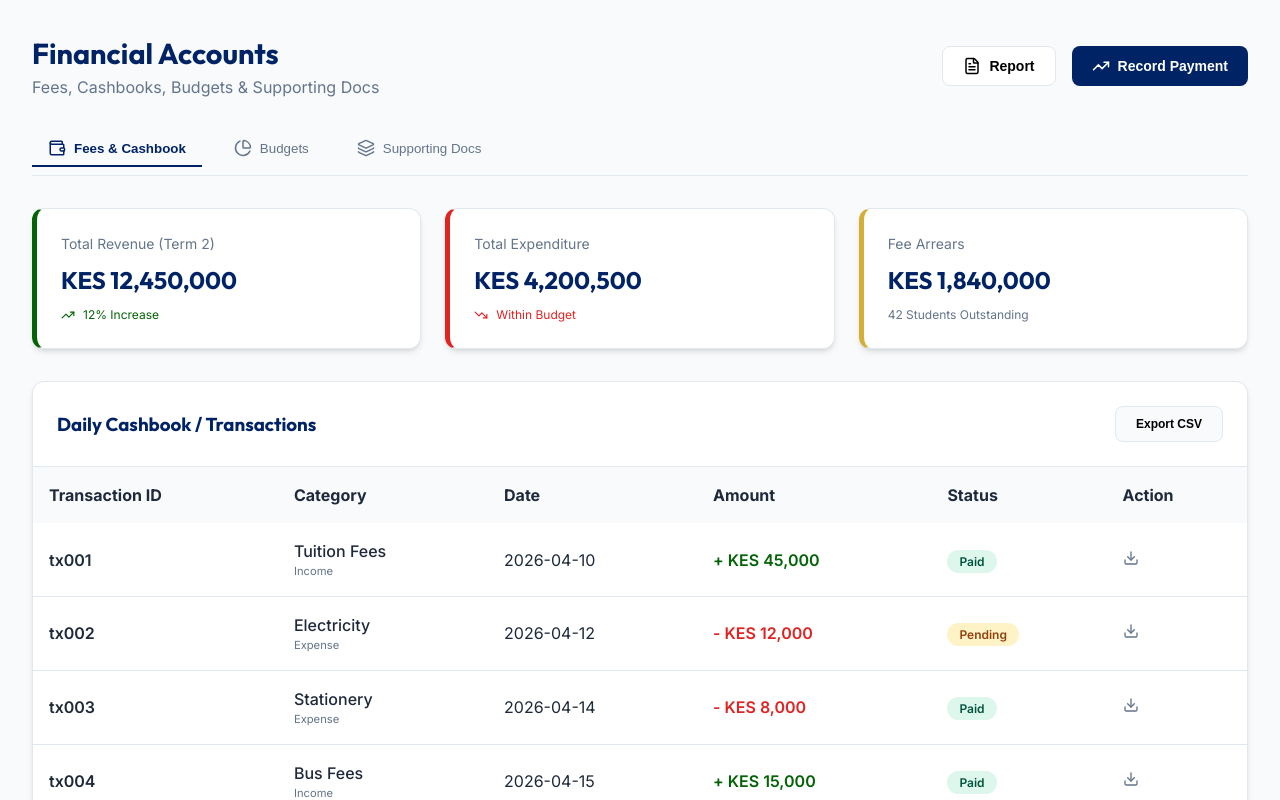
FinanceModule Component › switches between sub-tabs
Click the button "Budgets". click: point(271, 149)
box: [218, 131, 325, 167]
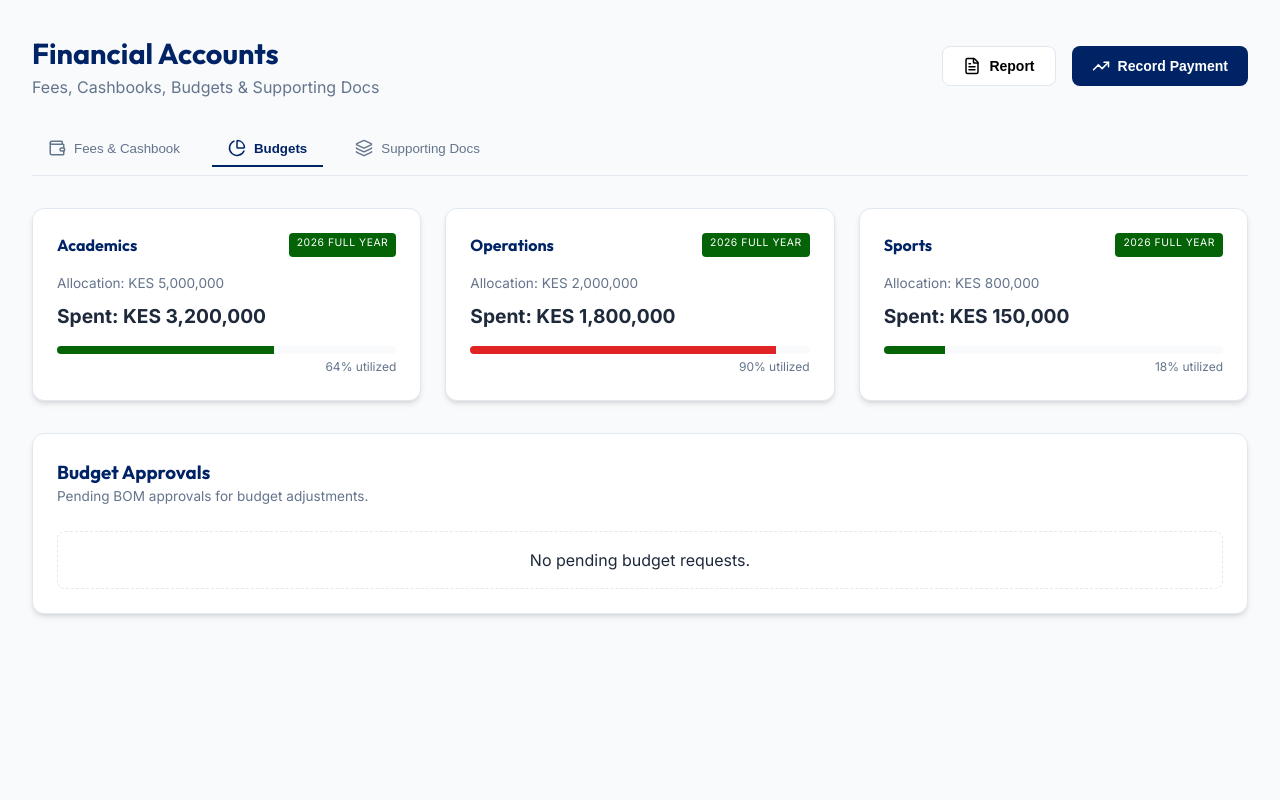
Now the heading "Budget Approvals" is shown, box [57, 460, 210, 484]
Click the button "Supporting Docs". click: point(418, 149)
box: [339, 131, 496, 167]
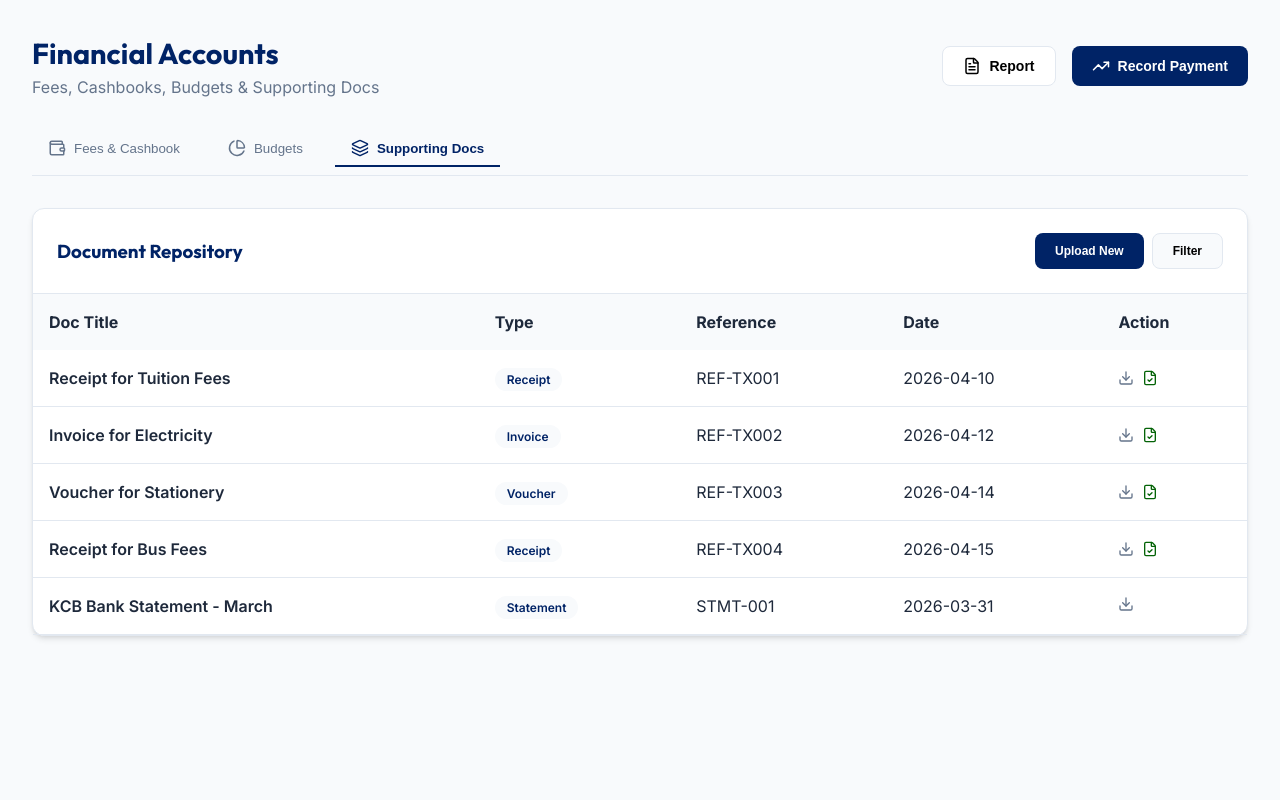
Now the heading "Document Repository" is shown, box [57, 237, 243, 265]
Click the button "Fees & Cashbook". click: point(114, 149)
box: [32, 131, 196, 167]
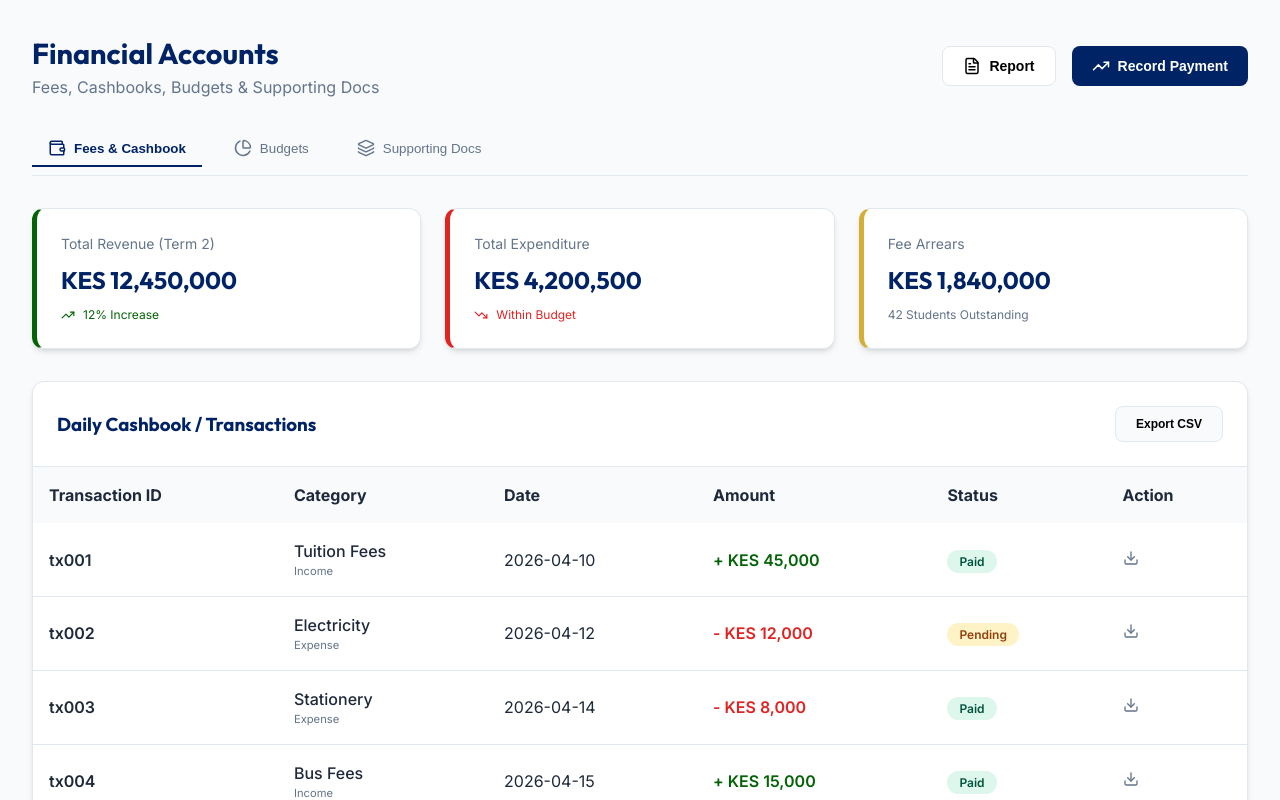
Now the heading "Daily Cashbook / Transactions" is shown, box [57, 410, 316, 438]
